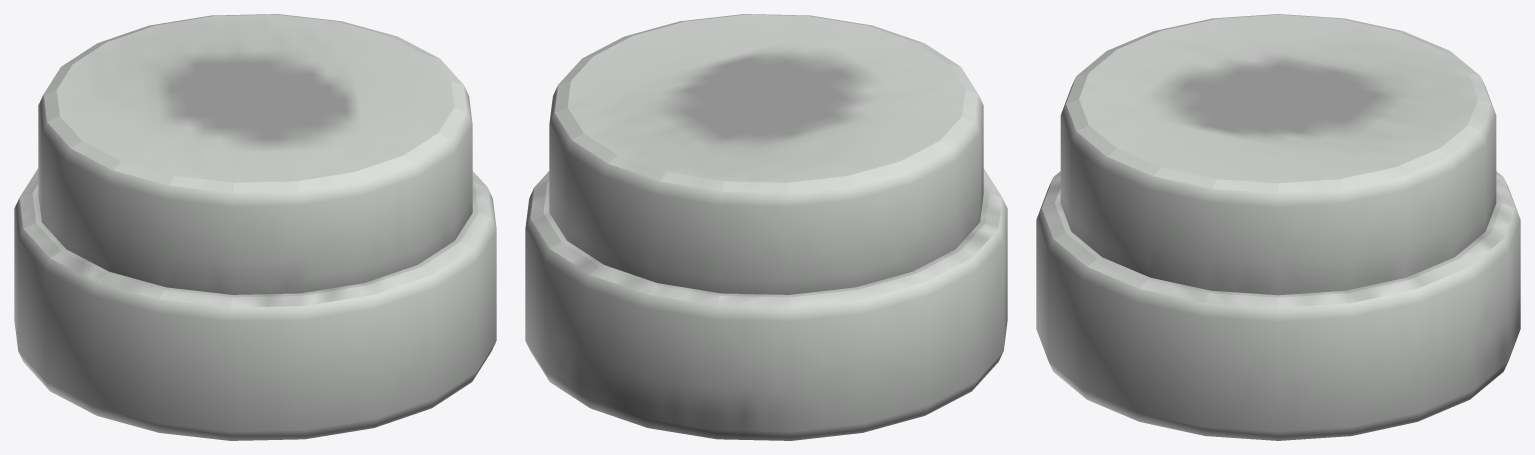
File: 4_head.obj
3 renders of one model, left to right at view 1: azimuth 30°, elevation 25°; view 2: azimuth 150°, elevation 25°; view 3: azimuth 270°, elevation 25°, orthographic.
Bounding box in the file's own units: 0.4 × 0.225 × 0.4.
Materials: 1 (1 with a texture image).
